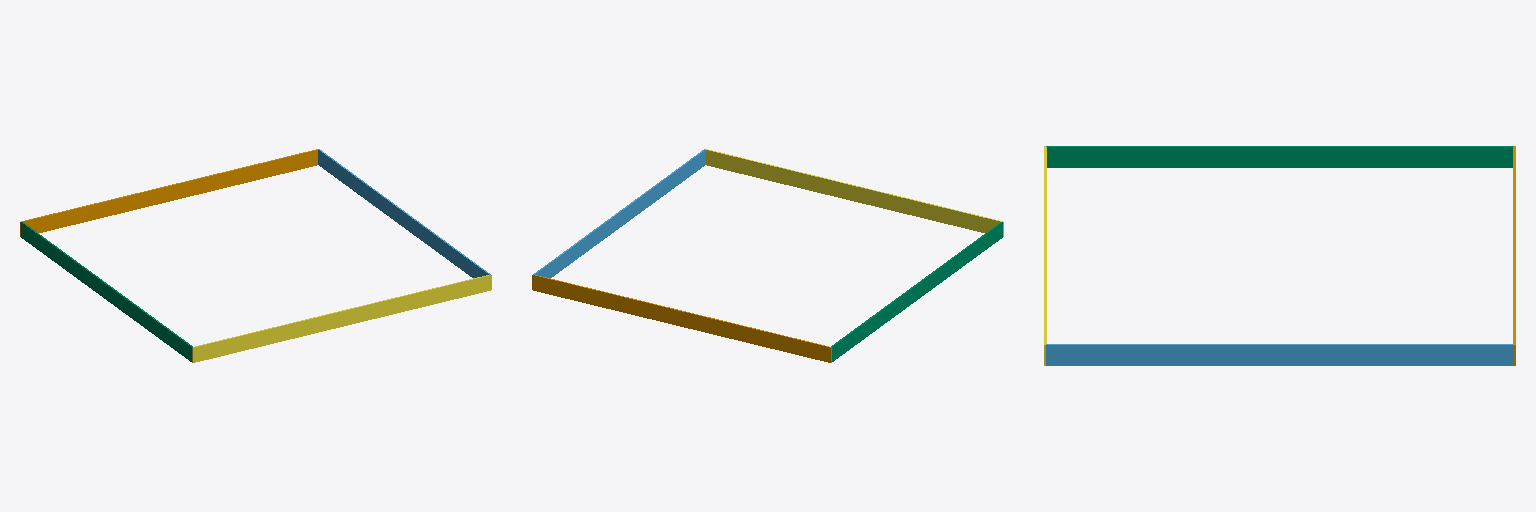
The robot description file, URDF, robot "room_40_40":
<?xml version="0.0" ?>
<robot name="room_40_40">
  <link name="wall_top">
    <inertial>
        <mass value="1"/>
        <inertia ixx="1" ixy="0" ixz="0" iyy="1" iyz="0" izz="1"/>
    </inertial>
    <visual>
      <geometry>
	    <box size="40.2 0.2 2"/>
      </geometry>
      <origin xyz="0 20 1"/>
    </visual>
    <collision>
      <geometry>
	    <box size="40.2 0.2 2"/>
      </geometry>
      <origin xyz="0 20 1"/>
    </collision>
  </link>

  <link name="wall_right">
    <inertial>
        <mass value="1"/>
        <inertia ixx="1" ixy="0" ixz="0" iyy="1" iyz="0" izz="1"/>
    </inertial>
    <visual>
      <geometry>
	    <box size="0.2 40 2"/>
      </geometry>
      <origin xyz="20 0 1"/>
    </visual>
    <collision>
      <geometry>
	    <box size="0.2 40 2"/>
      </geometry>
      <origin xyz="20 0 1"/>
    </collision>
  </link>


  <joint name="top_to_right" type="fixed">
    <origin xyz="0 0 0"/>
    <parent link="wall_top"/>
    <child link="wall_right"/>
  </joint>

    <link name="wall_left">
    <inertial>
        <mass value="1"/>
        <inertia ixx="1" ixy="0" ixz="0" iyy="1" iyz="0" izz="1"/>
    </inertial>
    <visual>
      <geometry>
	    <box size="0.2 40 2"/>
      </geometry>
      <origin xyz="-20 0 1"/>
    </visual>
    <collision>
      <geometry>
	    <box size="0.2 40 2"/>
      </geometry>
      <origin xyz="-20 0 1"/>
    </collision>
  </link>


  <joint name="top_to_left" type="fixed">
    <origin xyz="0.0 0.0 0.0"/>
    <parent link="wall_top"/>
    <child link="wall_left"/>
  </joint>

  <link name="wall_bottom">
    <inertial>
        <mass value="1"/>
        <inertia ixx="1" ixy="0" ixz="0" iyy="1" iyz="0" izz="1"/>
    </inertial>
    <visual>
      <geometry>
	    <box size="40.2 0.2 2"/>
      </geometry>
      <origin xyz="0 -20 1"/>
    </visual>
    <collision>
      <geometry>
	    <box size="40.2 0.2 2"/>
      </geometry>
      <origin xyz="0 -20 1"/>
    </collision>
  </link>

<joint name="right_to_bottom" type="fixed">
    <origin xyz="0.0 0.0 0.0"/>
    <parent link="wall_right"/>
    <child link="wall_bottom"/>
  </joint>


</robot>

--- What the picture shows (computed from the rendered views, not written in the file) ---
3 views of the same robot in one strip: view 1: azimuth 30°, elevation 25°; view 2: azimuth 150°, elevation 25°; view 3: azimuth 270°, elevation 25° (orthographic).
Model room_40_40 with 4 links and 3 joints (3 fixed), rooted at wall_top, posed all joints at 0.
Links seen in each view (by area): view 1: wall_bottom, wall_top, wall_left, wall_right; view 2: wall_top, wall_bottom, wall_left, wall_right; view 3: wall_right, wall_left, wall_top, wall_bottom.
Link boxes in pixels (x1,y1,x2,y2): wall_bottom: [192, 275, 491, 362]; wall_top: [20, 149, 318, 236]; wall_left: [21, 222, 192, 361]; wall_right: [318, 149, 490, 277]; wall_top: [532, 275, 831, 362]; wall_bottom: [705, 149, 1003, 236]; wall_left: [831, 222, 1002, 361]; wall_right: [533, 149, 705, 277]; wall_right: [1046, 344, 1513, 365]; wall_left: [1046, 146, 1513, 167]; wall_top: [1513, 146, 1515, 365]; wall_bottom: [1044, 146, 1046, 365].
Size in the robot's own frame: 40.2 by 40.2 by 2 metres.
Geometry: primitives only (box / cylinder / sphere), no mesh files.